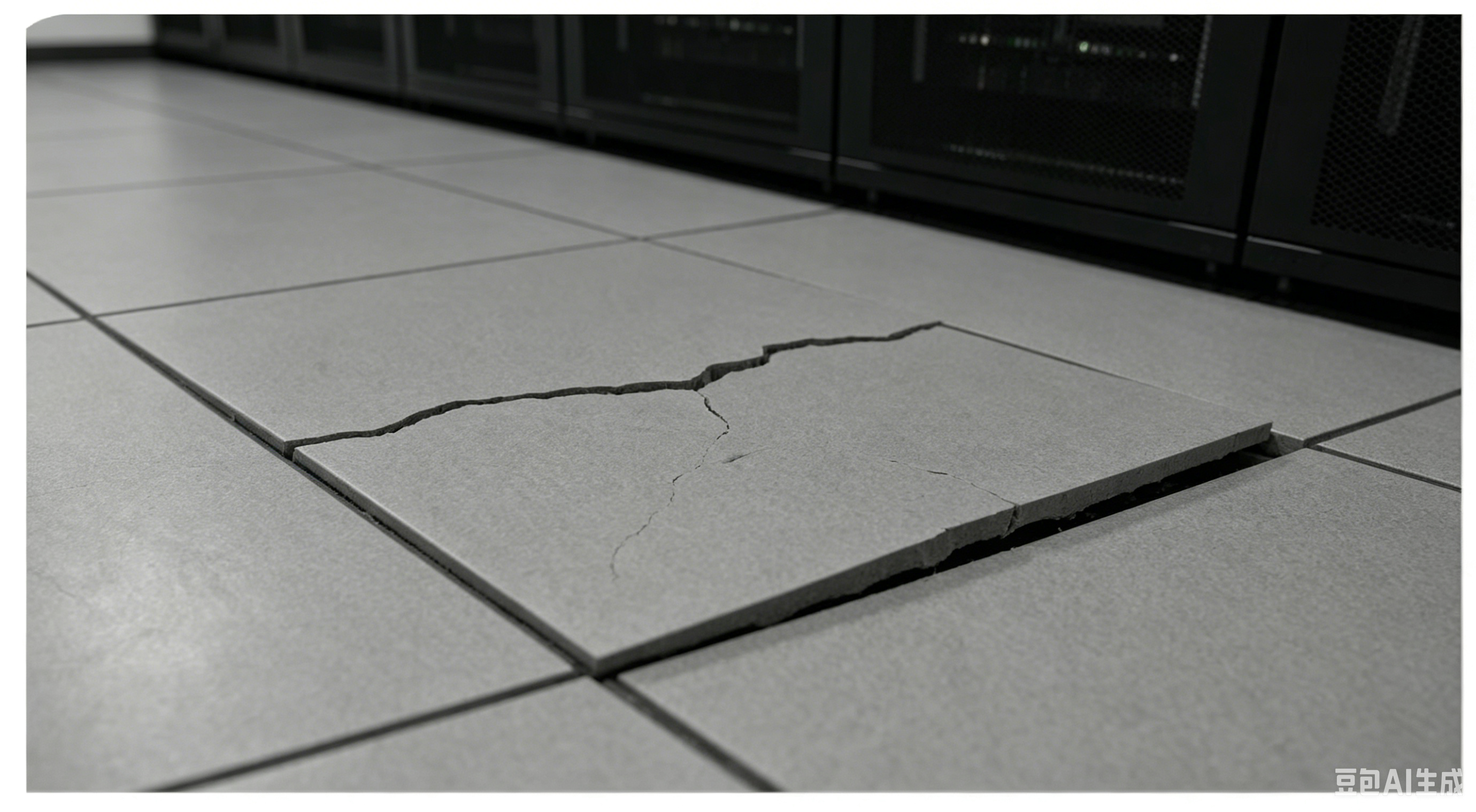floor_defect: (830, 435, 1357, 575), (202, 384, 718, 509), (549, 572, 1024, 703), (628, 291, 1005, 427)
